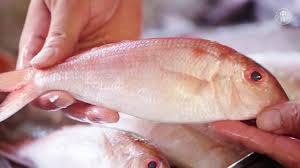Ikan Kerisi: (1, 37, 297, 121)
